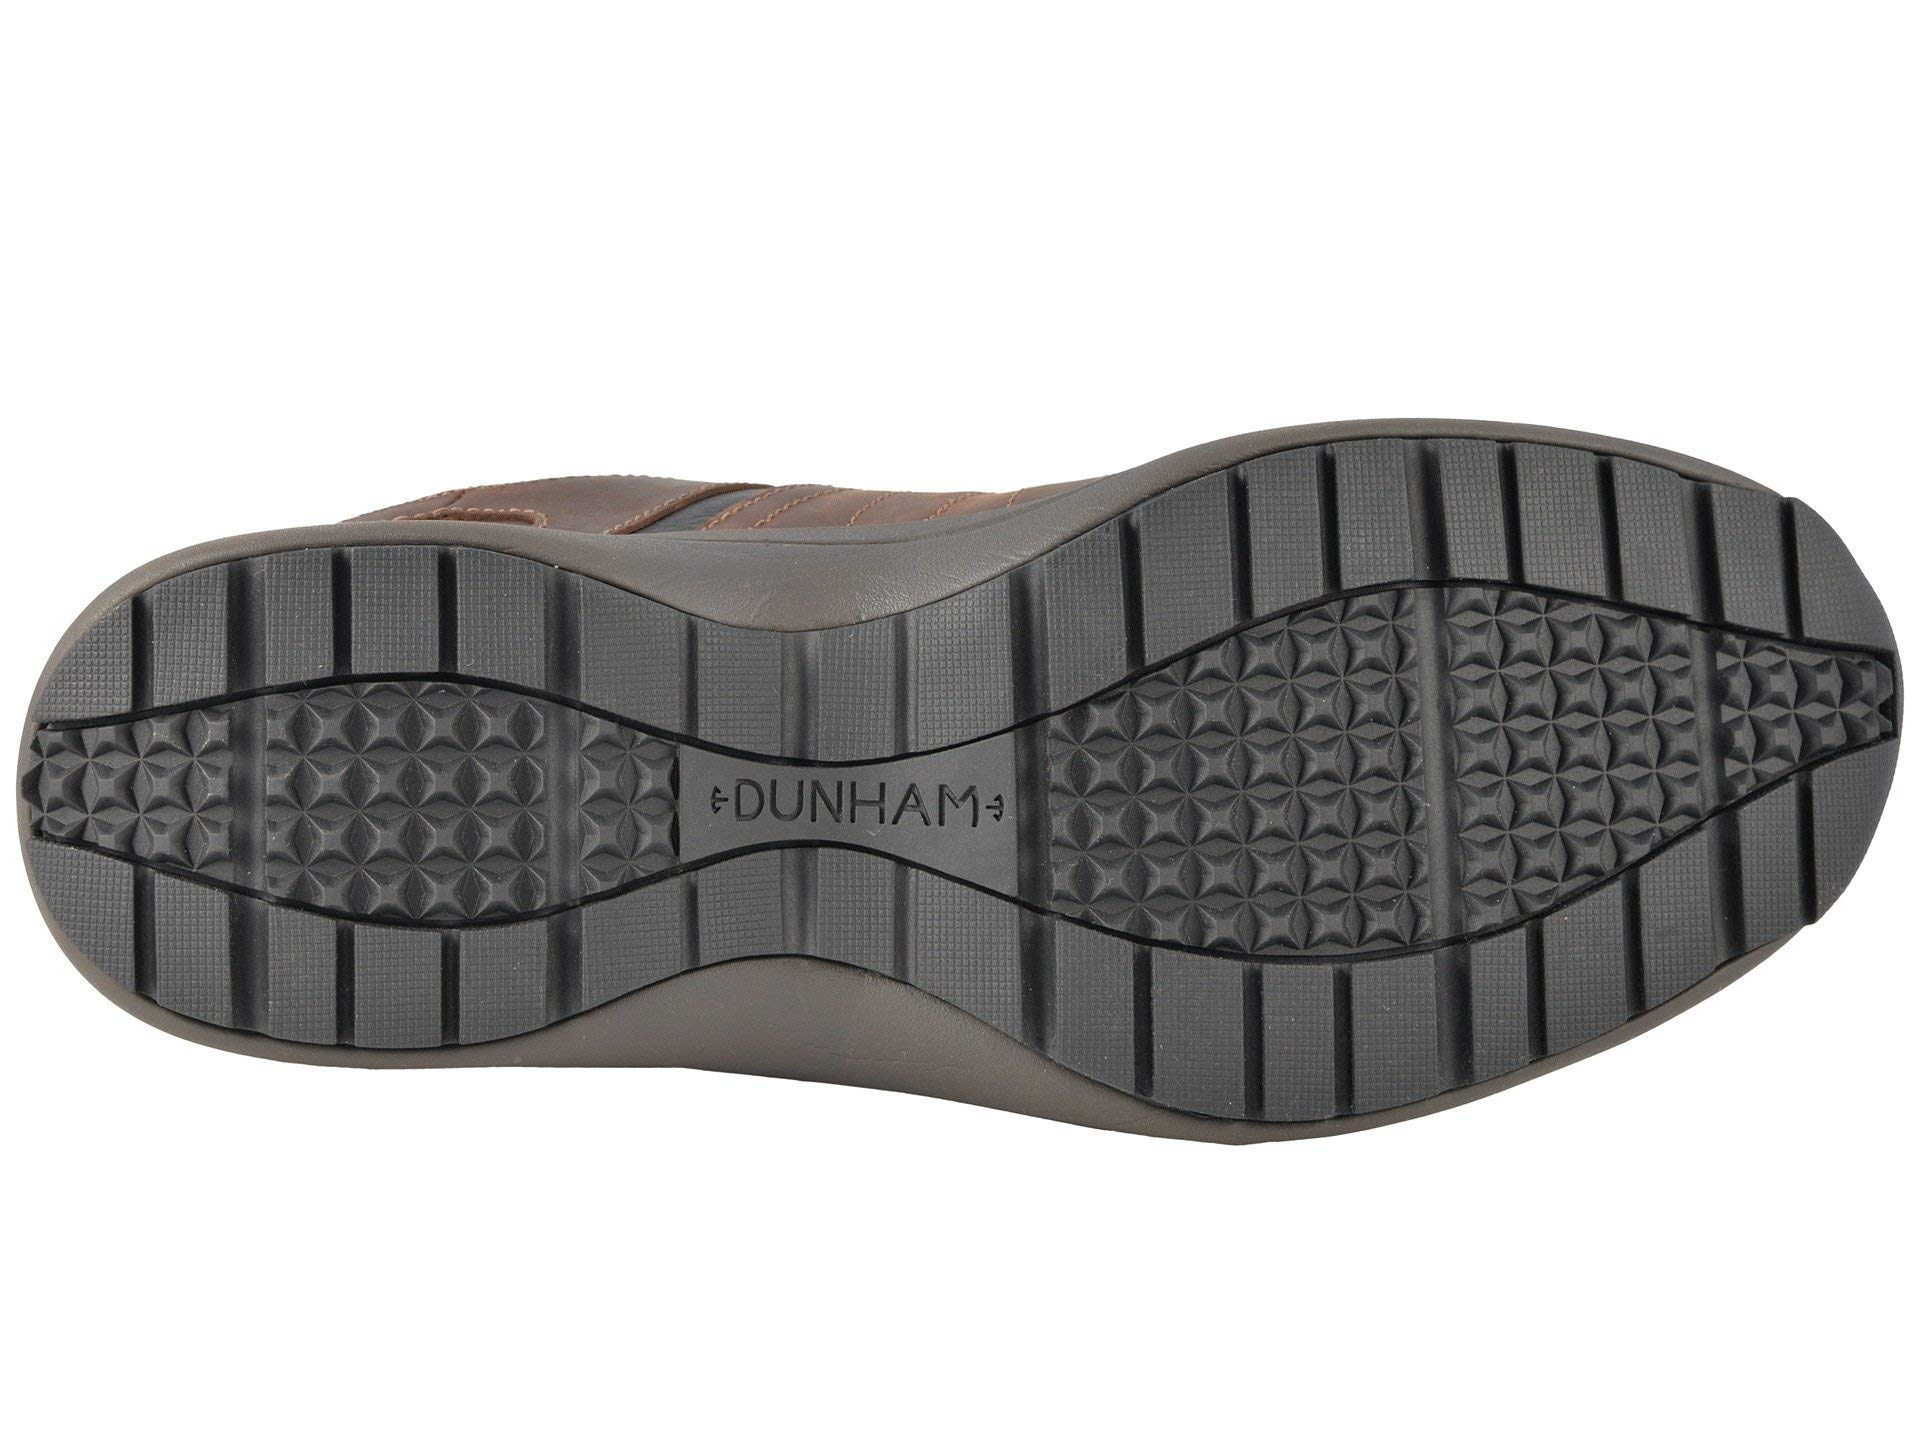quad: (615, 604, 1025, 1006), (1285, 405, 1577, 652), (94, 529, 277, 802)
star: (615, 604, 1025, 1006), (1285, 405, 1577, 652), (1161, 687, 1418, 941), (283, 682, 526, 920), (94, 529, 277, 802), (1494, 608, 1702, 843)
text: (615, 604, 1025, 1006)
